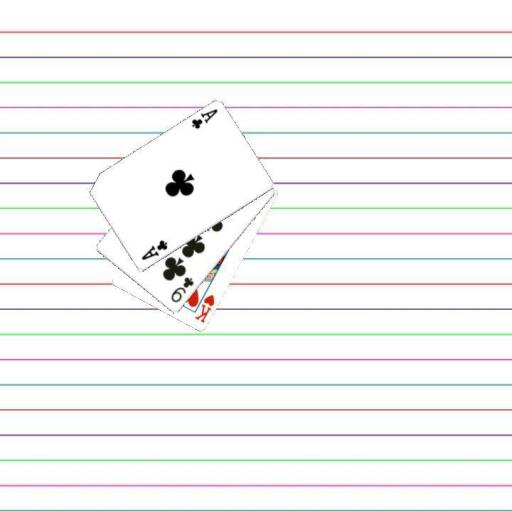card-corner: (168, 274, 195, 304), (138, 236, 169, 262), (188, 106, 219, 131), (192, 292, 216, 324)
